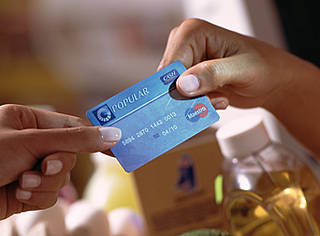tarjeta: (87, 60, 220, 173)
